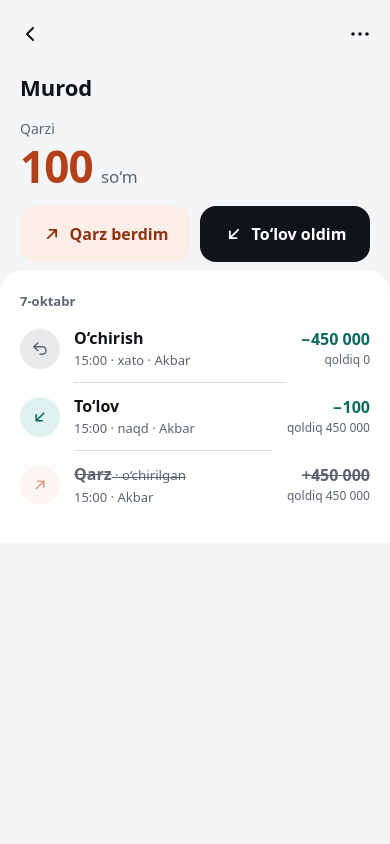
Test: CustomerDetail › egasi: qarzi bor mijozni arxivlab bo‘lmaydi
Click the button named "Mijoz amallari" at coordinates (360, 34), box [338,12,382,56]
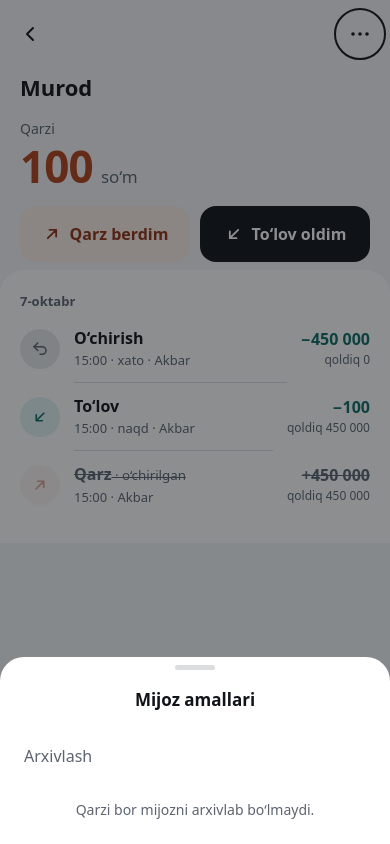
Now the button "Arxivlash" is disabled, box [20,730,370,782]
Now the text "Qarzi bor mijozni arxivlab bo‘lmaydi." is shown, box [76,800,314,819]
